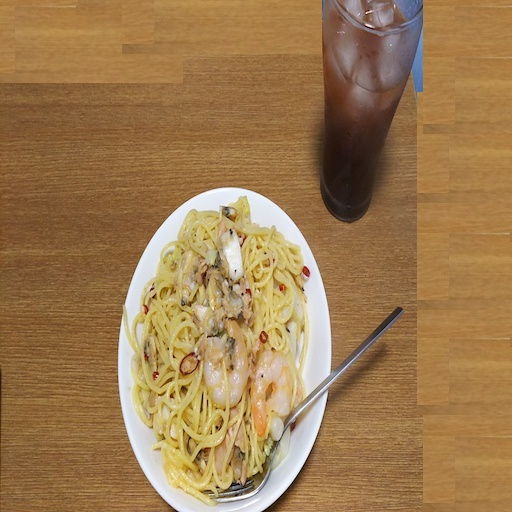drink: (317, 1, 423, 224)
pasta: (136, 196, 314, 499)
